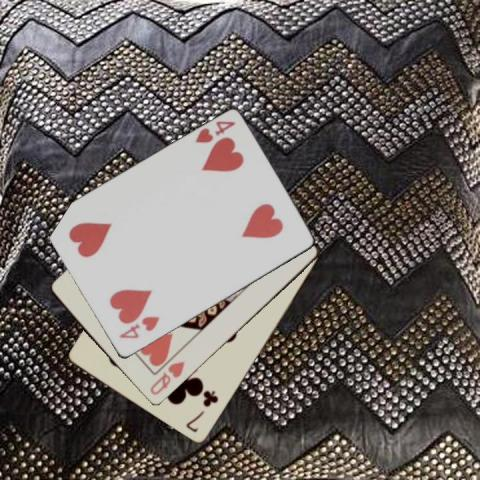4h: (116, 313, 161, 341), (192, 118, 237, 145)
7c: (183, 388, 220, 435)
Qh: (146, 359, 186, 397)
